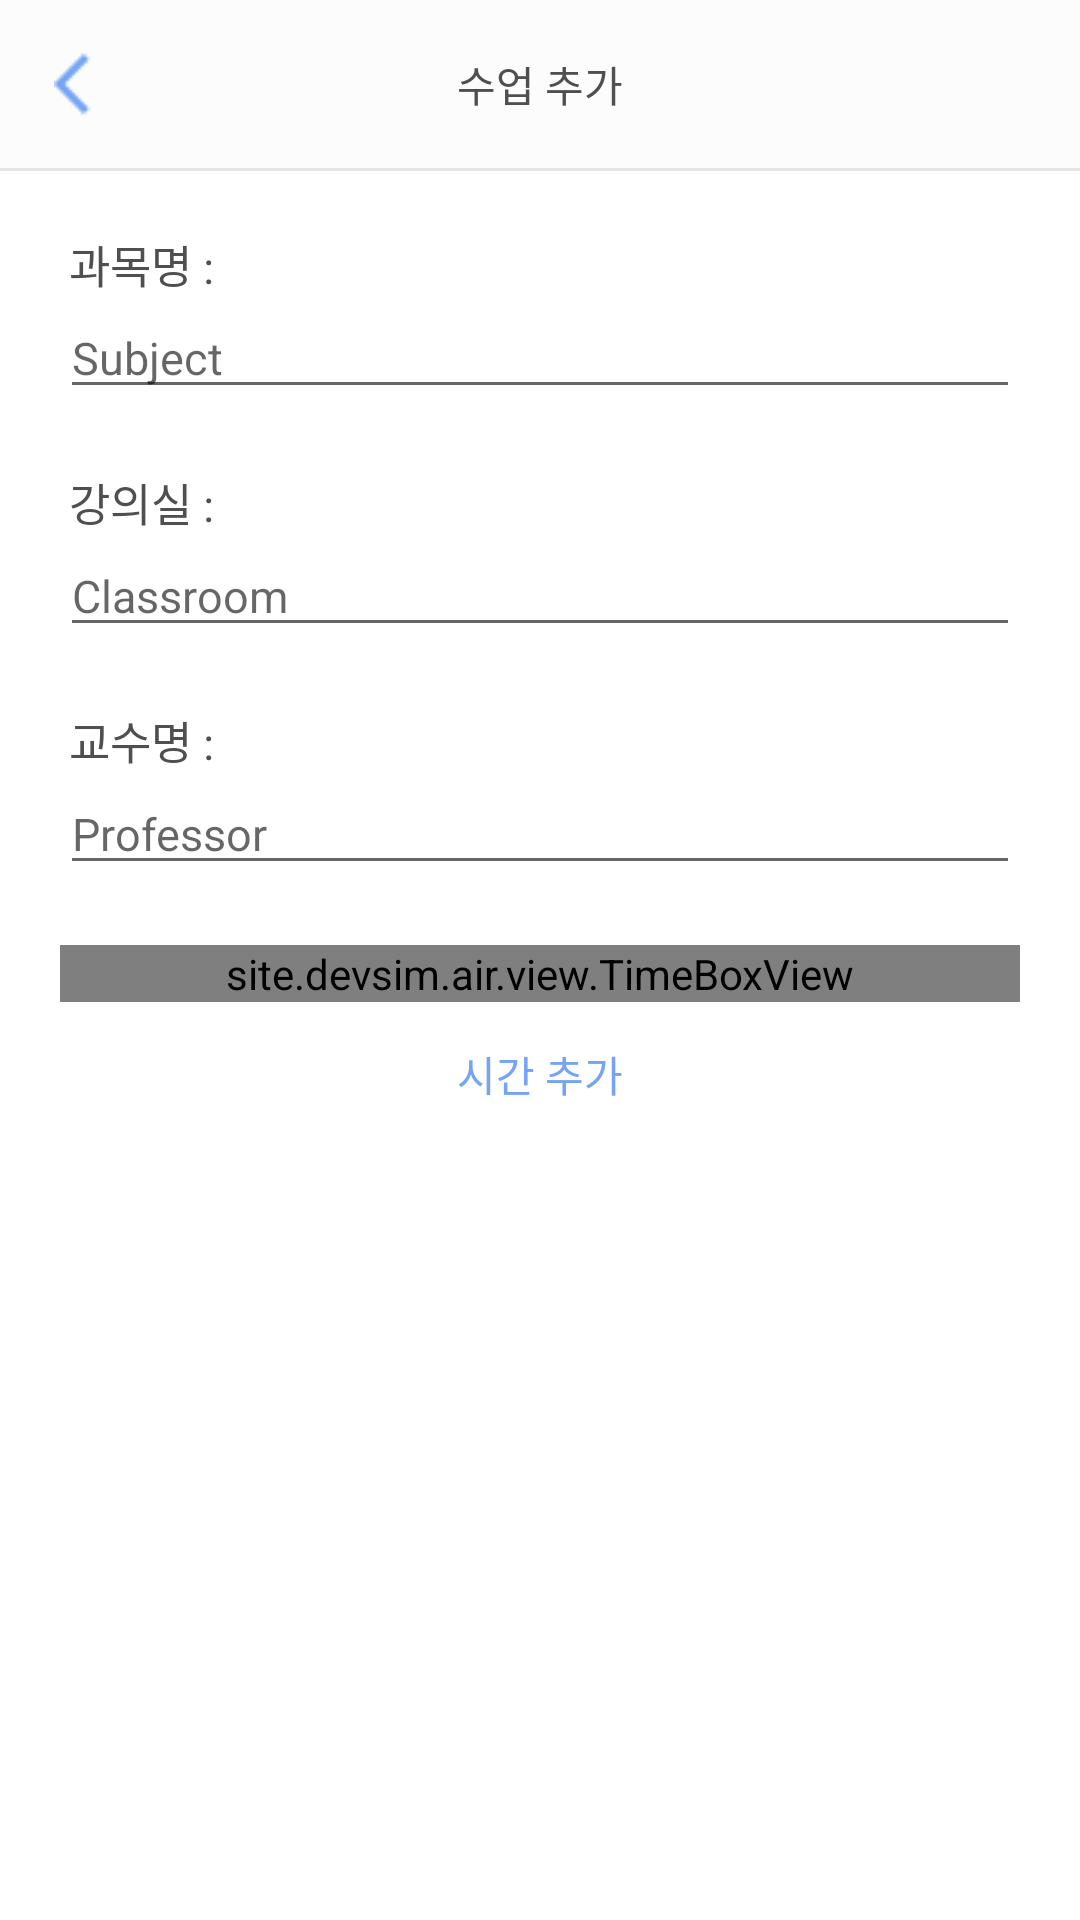

Named icons in this screenshot (1080 × 1920) and their centers, point (x, y):
arrow back: point (72, 84)
